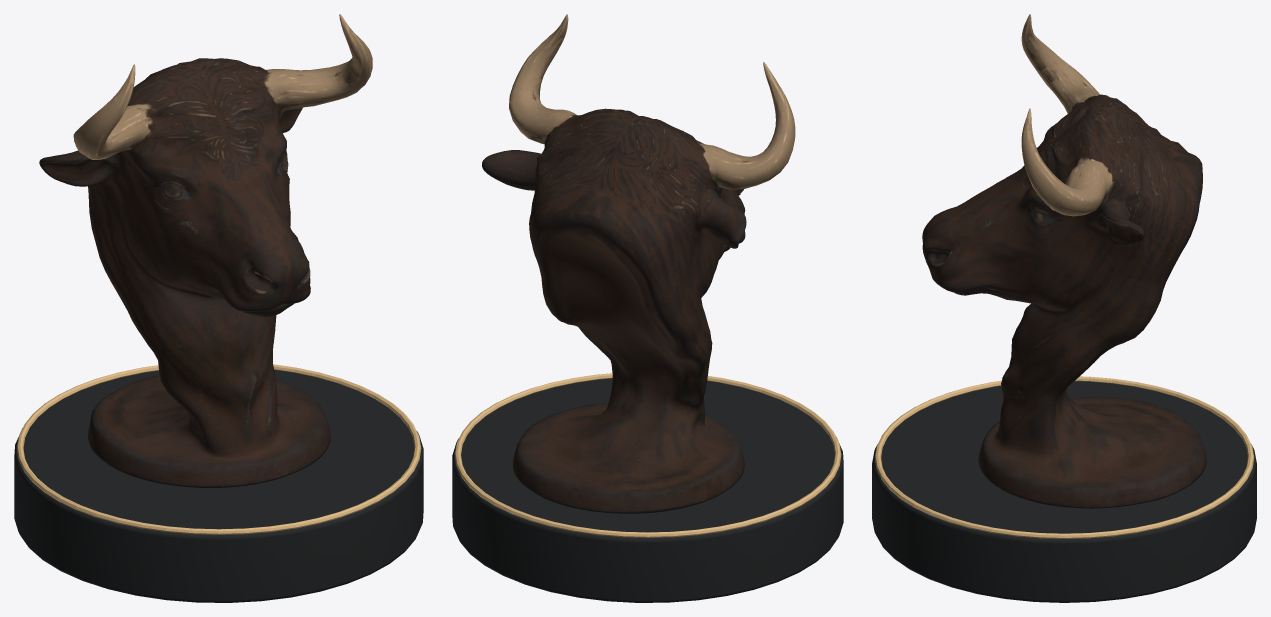
File: hp_room_cc0_bull_head_plinth.glb
3 views of the same model, side by side, from view 1: azimuth 30°, elevation 25°; view 2: azimuth 150°, elevation 25°; view 3: azimuth 270°, elevation 25° (orthographic). The views are drawn at different scales.
Visible parts, largest first — view 1: bull_head, hp_museum_low_black_plinth, hp_museum_plinth_brass_lip; view 2: bull_head, hp_museum_low_black_plinth, hp_museum_plinth_brass_lip; view 3: bull_head, hp_museum_low_black_plinth, hp_museum_plinth_brass_lip.
Part boxes in pixels (x1,y1,x2,y2): bull_head: [39, 14, 372, 487]; hp_museum_low_black_plinth: [14, 370, 423, 602]; hp_museum_plinth_brass_lip: [16, 364, 421, 534]; bull_head: [482, 14, 795, 513]; hp_museum_low_black_plinth: [452, 378, 843, 602]; hp_museum_plinth_brass_lip: [454, 373, 841, 537]; bull_head: [922, 14, 1206, 508]; hp_museum_low_black_plinth: [872, 381, 1256, 602]; hp_museum_plinth_brass_lip: [874, 376, 1254, 538].
Bounding box in the file's own units: 0.9651 × 1.28 × 0.9651.
Materials: 3 (1 with a texture image).
